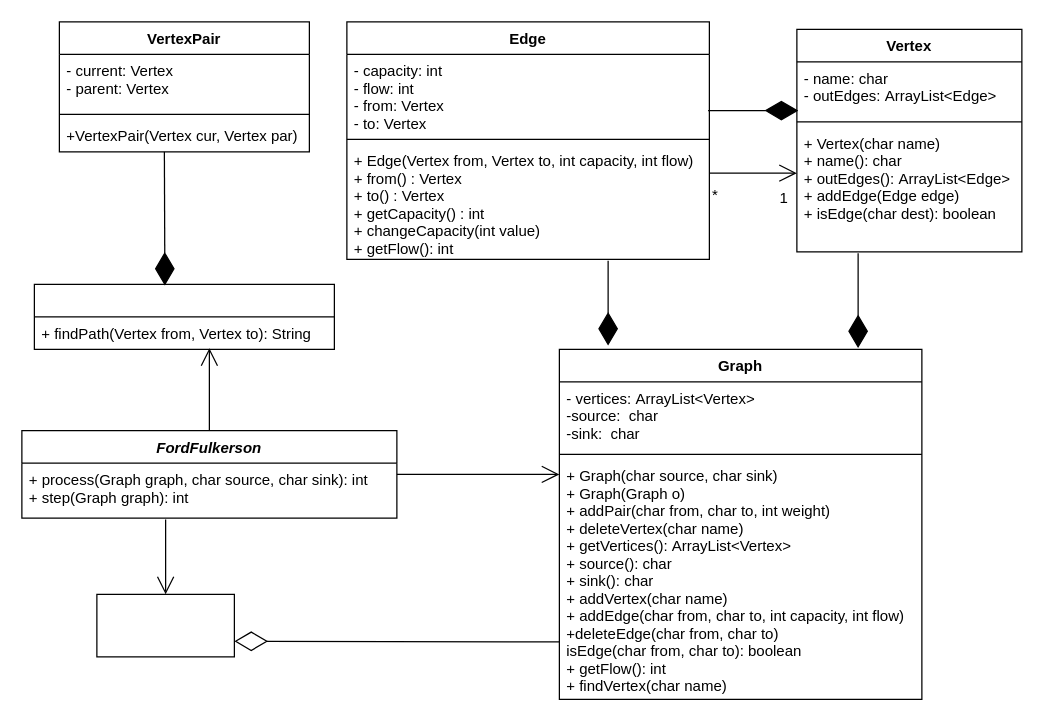
Some shapes in this 1044 by 725 pixel diagram are drawn without their labels. Here are the shapes that lost their labels. From the top down, the box of each, then its label:
(33, 283, 334, 349): BFS
(96, 593, 234, 657): Controller
